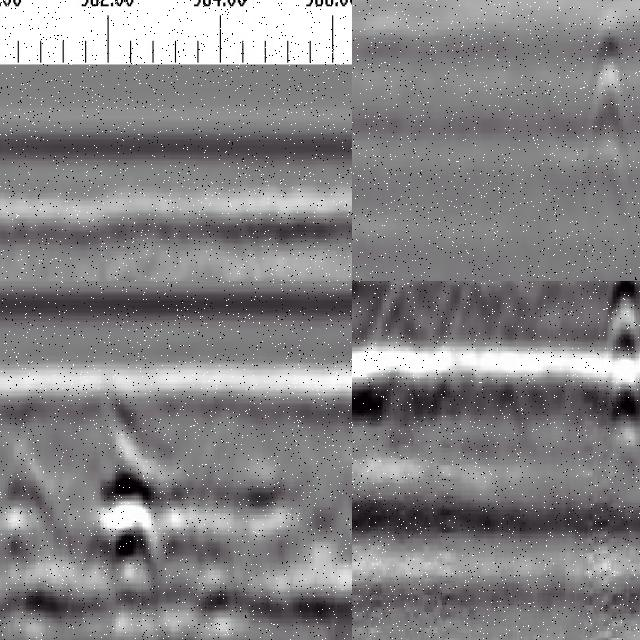crack: (593, 282, 640, 469), (587, 1, 622, 207)
loose: (94, 455, 284, 617)
